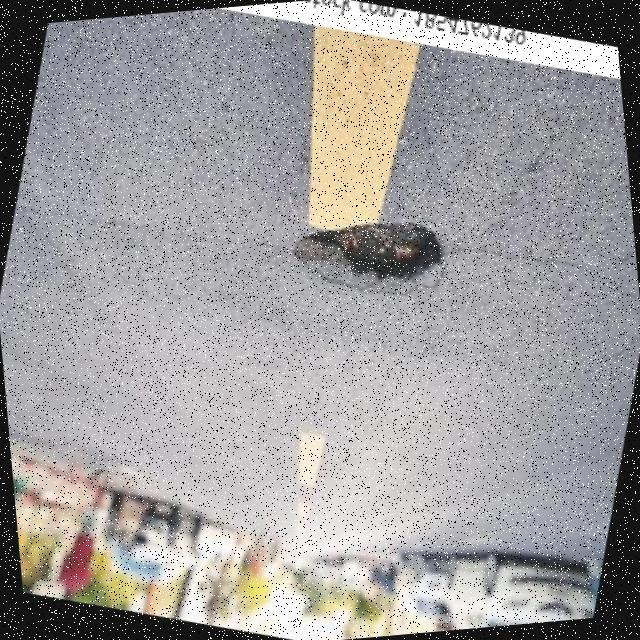Pothole: (291, 219, 442, 291)
